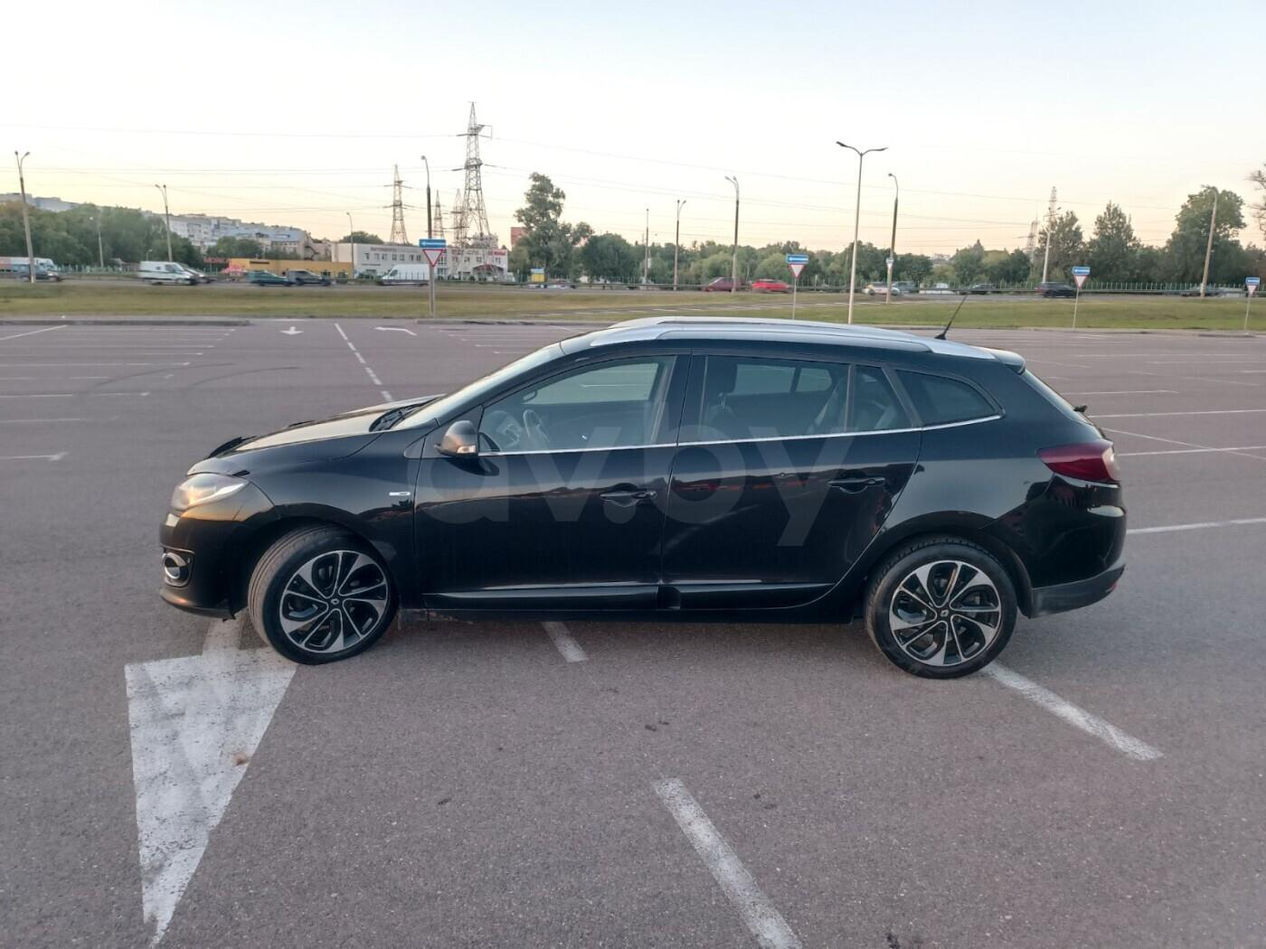Megane_2014-2016: (152, 303, 1143, 683)
